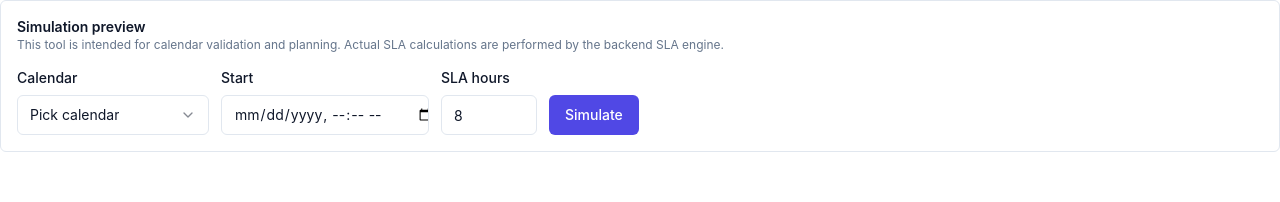
Scenario: SlaSimulationPanel › estimates a due datetime from calendar + start + hours
Click the dropdown labelled "Pick calendar" at coordinates (113, 115), box [17,95,209,135]
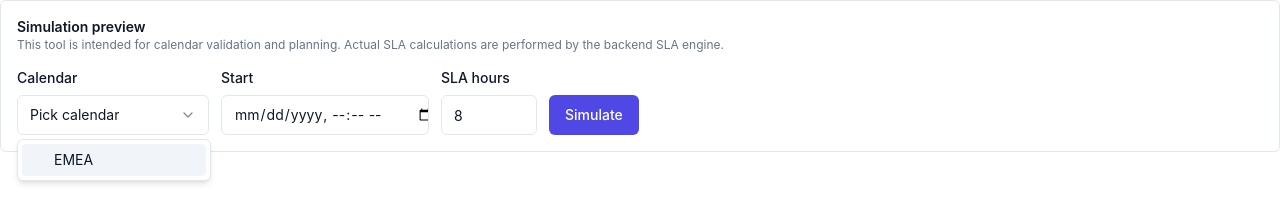
Click the option "EMEA" at coordinates (114, 160), box [22,144,206,176]
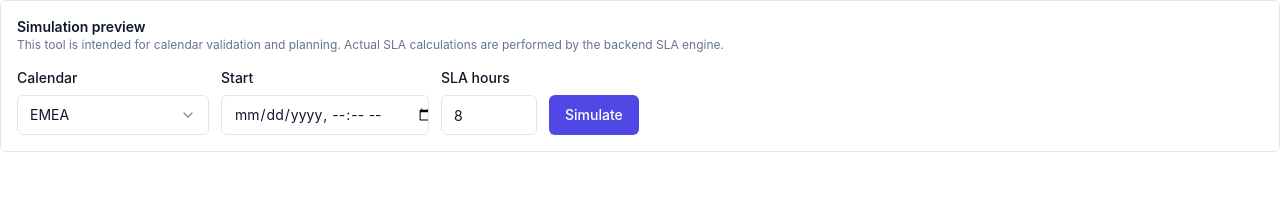
Type "2026-06-29T09:00" into the field labelled "Start" at coordinates (325, 115), box [221,95,429,135]
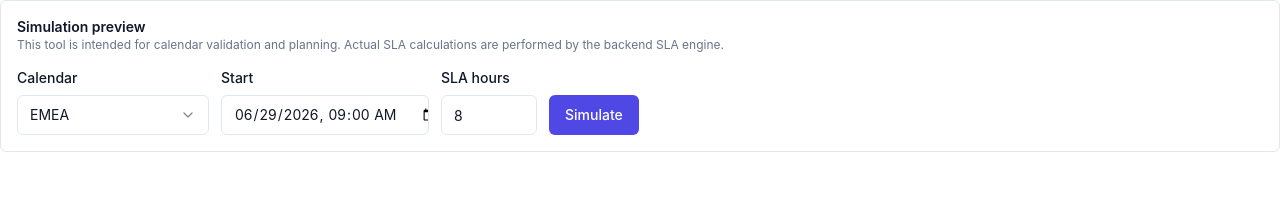
Replace the text in the number field labelled "SLA hours" with "2" at coordinates (489, 115), box [441,95,537,135]
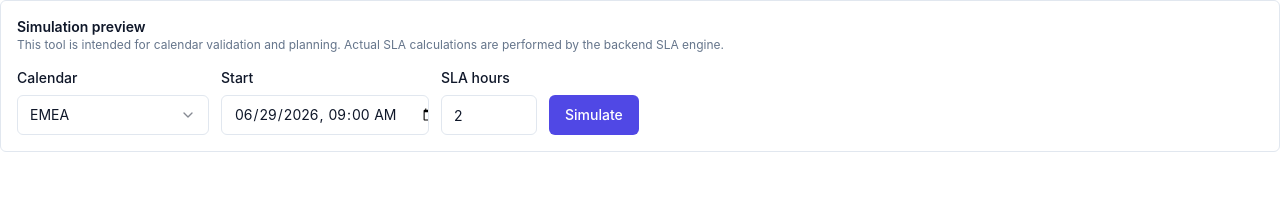
Click the button "Simulate" at coordinates (594, 115), box [549,95,639,135]
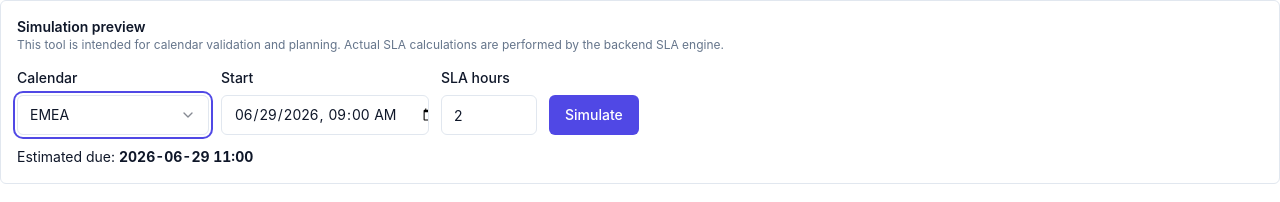
Now the text "Estimated due: 2026-06-29 11:00" is shown, box [17,148,253,165]
Now the text "2026-06-29 11:00" is shown, box [119,148,253,165]
